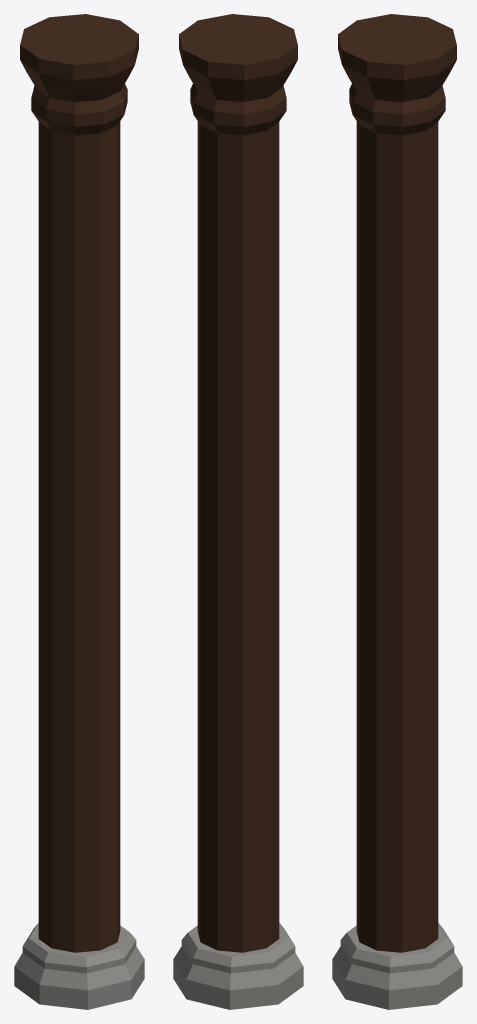
The model's file is rw_column.glb.
3 views of the same model, side by side, from view 1: azimuth 30°, elevation 25°; view 2: azimuth 150°, elevation 25°; view 3: azimuth 330°, elevation 25° (orthographic).
Parts seen in each view (by area): view 1: rw_column__wl_post, rw_column__stone; view 2: rw_column__wl_post, rw_column__stone; view 3: rw_column__wl_post, rw_column__stone.
Part boxes in pixels (bbox=[...]): rw_column__wl_post: bbox=[20, 14, 138, 952]; rw_column__stone: bbox=[14, 923, 144, 1009]; rw_column__wl_post: bbox=[179, 14, 297, 952]; rw_column__stone: bbox=[173, 923, 303, 1009]; rw_column__wl_post: bbox=[338, 14, 456, 952]; rw_column__stone: bbox=[332, 923, 462, 1009].
Size of the model in its own units: 7 by 60 by 7.
